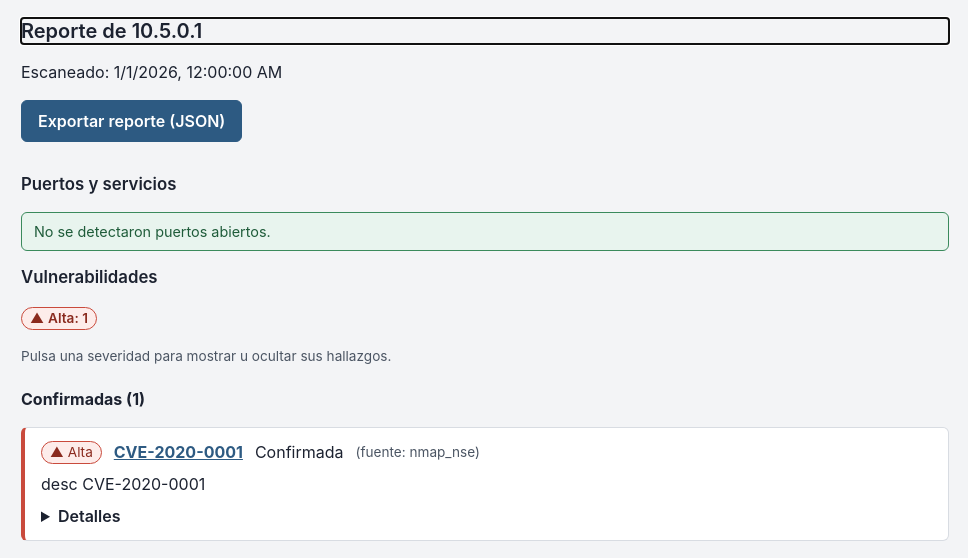
Test: severity filter (RRD-02) › si_todo_esta_filtrado_avisa_que_no_hay_coincidencias
Click the button "▲Alta: 1" at [59, 318], box left=21, top=307, right=97, bottom=330
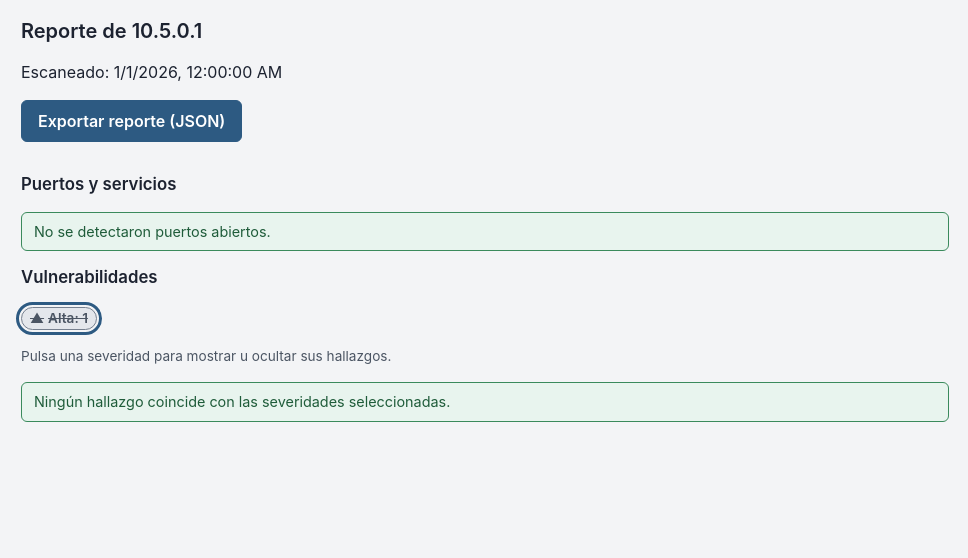
Now the text "Ningún hallazgo coincide con las severidades seleccionadas." is shown, box left=21, top=382, right=949, bottom=422
